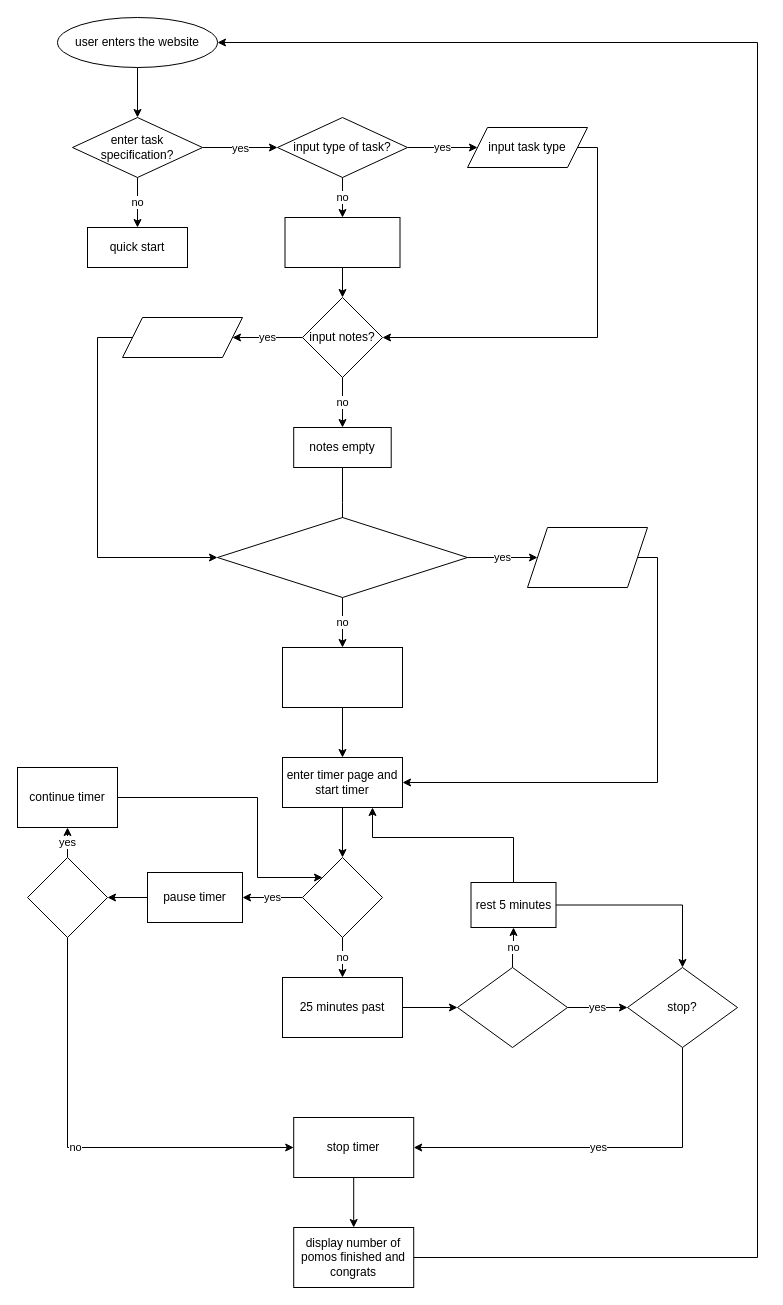
The diagram is 783 pixels wide and 1305 high, and some of its shapes have lost their labels. Each missing label, with the centre of its shape:
"continue?" goes at pixel 67 897.
"input notes" goes at pixel 182 337.
"input predicted number of pomos?" goes at pixel 342 557.
"input prediction" goes at pixel 587 557.
"pause?" goes at pixel 342 897.
"prediction 0 pomo" goes at pixel 342 677.
"reach prediction?" goes at pixel 512 1007.
"task type: general" goes at pixel 342 242.
